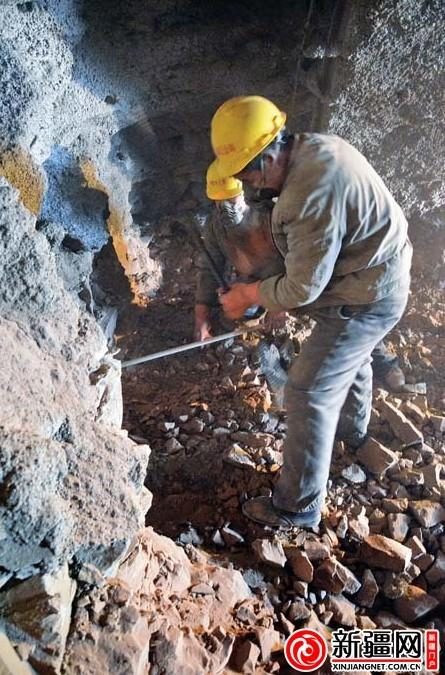boots: (240, 494, 319, 532), (374, 366, 415, 393)
hard-hat: (208, 95, 286, 178), (204, 157, 243, 201)
person: (206, 94, 414, 536), (192, 171, 287, 349)
